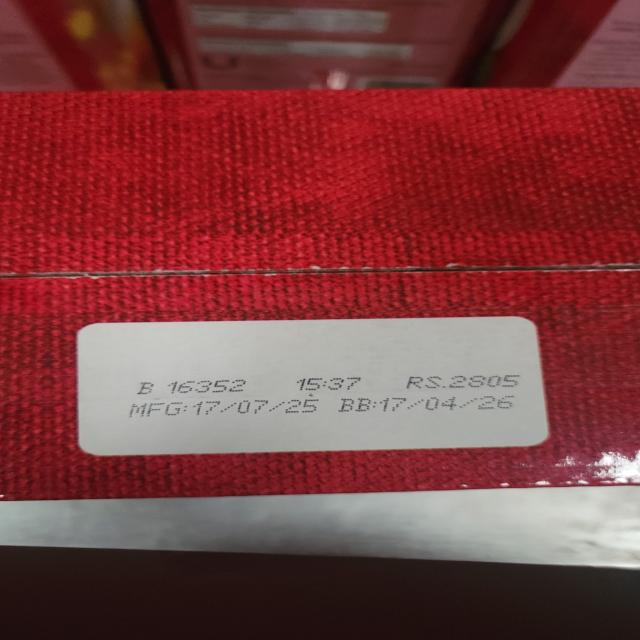BB: (336, 396, 519, 412)
Batch: (136, 380, 250, 394)
MFG: (130, 398, 320, 418)
RS: (403, 374, 523, 390)
TimeStamp: (293, 377, 365, 391)
